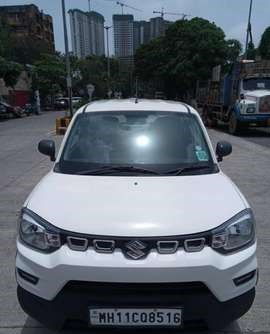MH11CQ8516: (90, 307, 182, 325)
